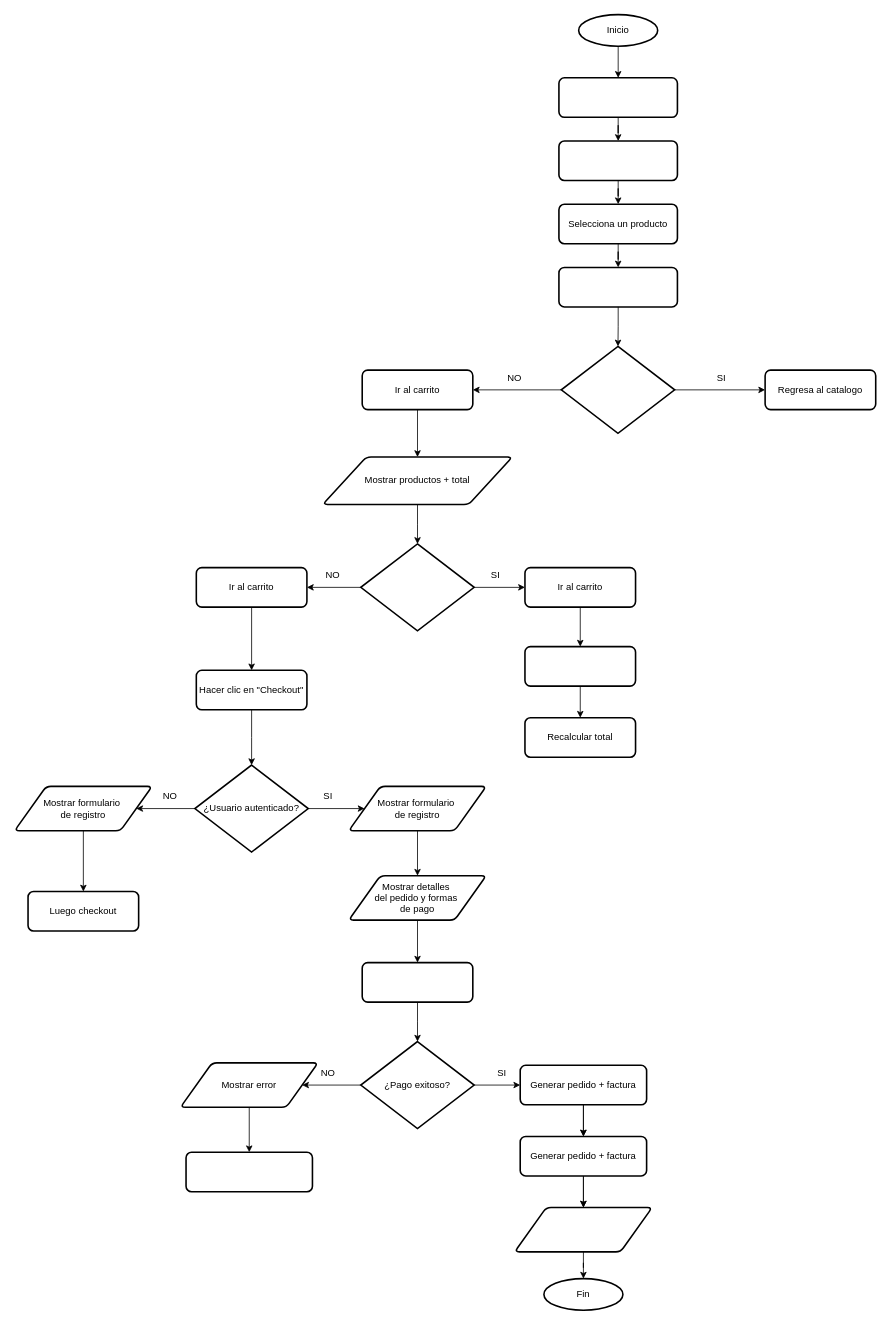
Some shapes in this 890 by 1324 pixel diagram are drawn without their labels. Here are the shapes that lost their labels. From the top down, the centre of each, then its label:
the point at 618,97: Usuario entra al sitio
the point at 618,160: Ve el catalogo de Productos
the point at 618,286: Hacer Clic en "agregar al carrito"
the point at 617,389: ¿Quiere seguir comprando?
the point at 417,587: ¿Desea eliminar o cambiar cantidad?
the point at 580,666: Ajustes
the point at 417,982: Procesar pago
the point at 249,1171: Reintentar o cambiar método de pago
the point at 583,1229: Confirmación
